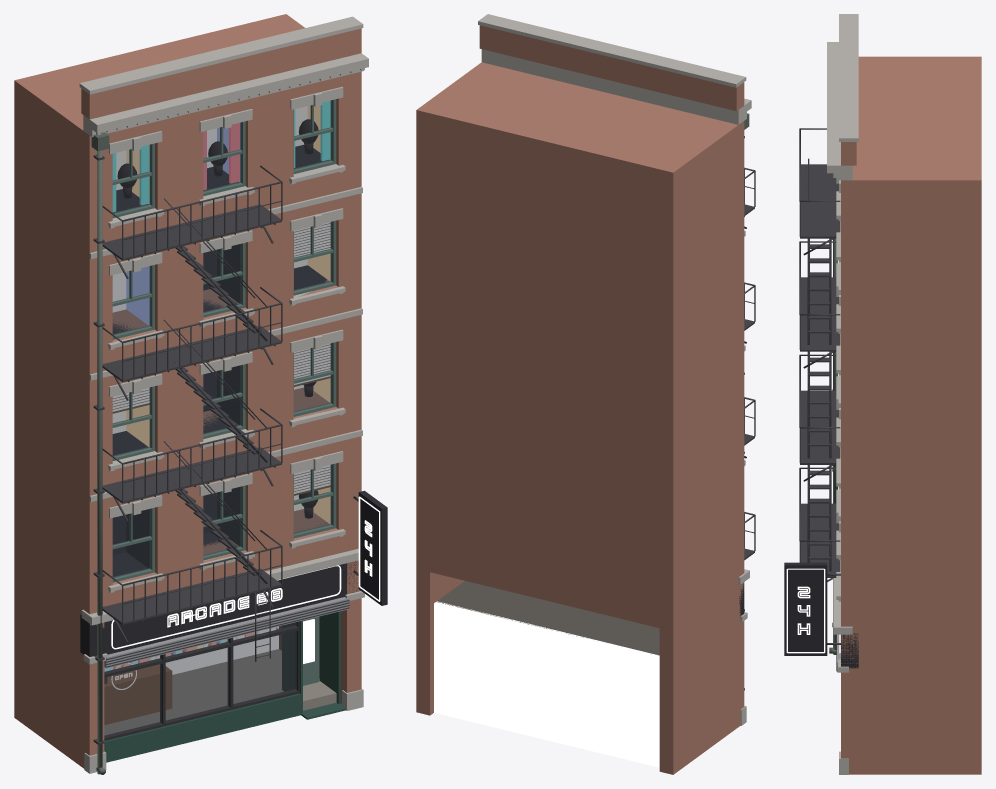
Rendered from bldg_3.glb.
The picture shows the model from 3 angles, left to right: view 1: azimuth 30°, elevation 25°; view 2: azimuth 150°, elevation 25°; view 3: azimuth 270°, elevation 25°; orthographic projection. The views are drawn at different scales.
Visible parts, largest first — view 1: bldg_3; view 2: bldg_3; view 3: bldg_3.
Boxes of the visible parts, left/top/right/bottom form: bldg_3: left=14, top=14, right=387, bottom=774; bldg_3: left=416, top=14, right=755, bottom=774; bldg_3: left=784, top=14, right=981, bottom=774.
Bounding box in the file's own units: 7.6 × 18 × 5.05.
